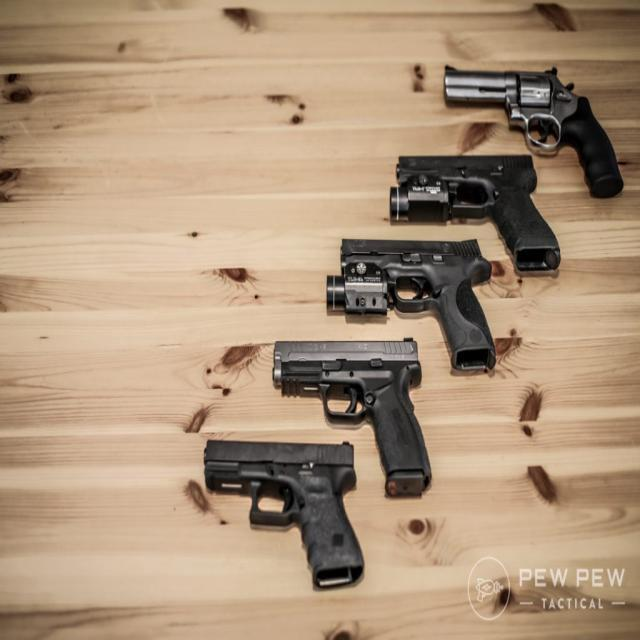pistol: (268, 326, 442, 496), (440, 62, 631, 198), (201, 437, 368, 589), (323, 236, 501, 376), (386, 152, 570, 273)
